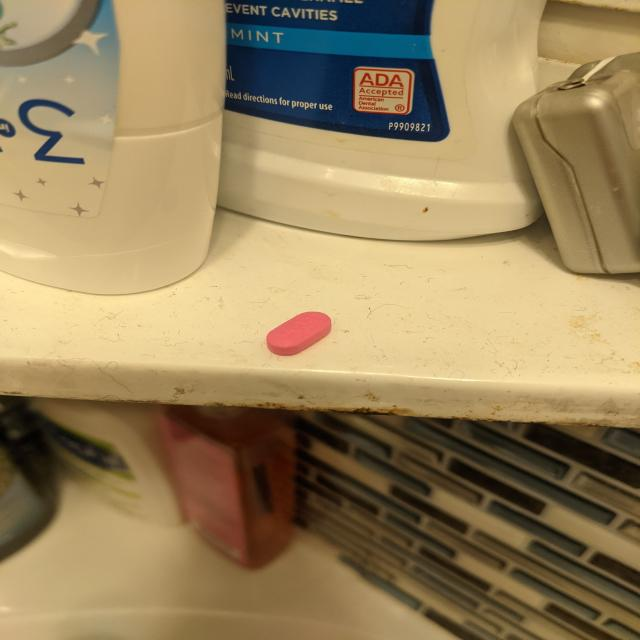non-organic waste: (265, 310, 332, 356)
